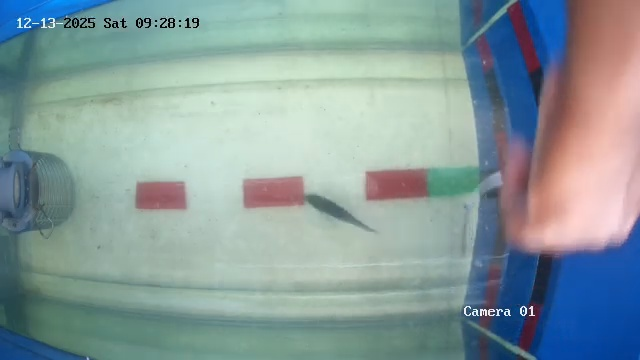fish: (313, 196, 394, 222)
